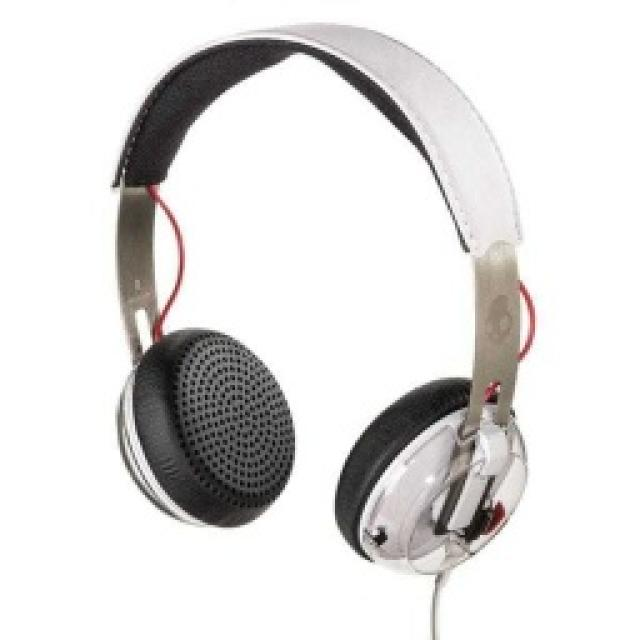headphones: (110, 20, 532, 575)
